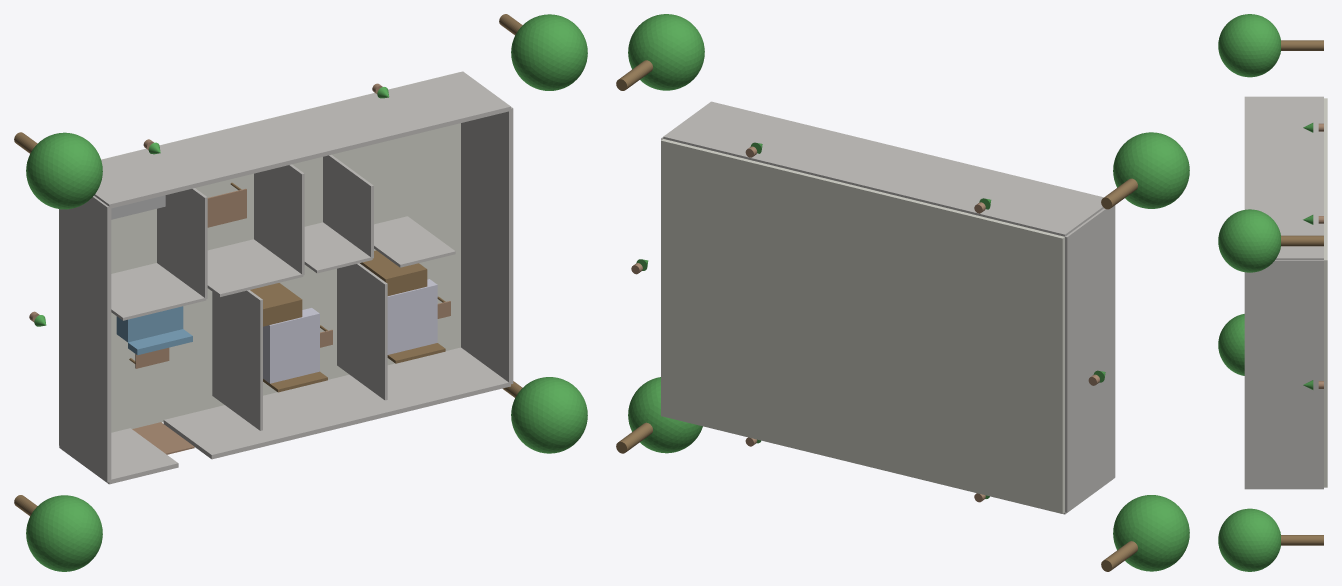
File: house_20251101_070418.glb
3 renders of one model, left to right at view 1: azimuth 30°, elevation 25°; view 2: azimuth 150°, elevation 25°; view 3: azimuth 270°, elevation 25°, orthographic. The views are drawn at different scales.
Visible parts, largest first — view 1: Floor, Wall_S, Wall_N2, Wall_E, Wall_W, Wall_Living_R, Wall_Bedroom1_R, geometry_19b07774363b9, geometry_18d2a94aeb248, geometry_1a6a2b0a31ce2, geometry_11a81f5d033f9, Wall_Dining_R (+14 smaller); view 2: Floor, Wall_S, Wall_E, geometry_11a81f5d033f9, geometry_1a6a2b0a31ce2, geometry_19b07774363b9, geometry_18d2a94aeb248; view 3: Wall_W, Wall_S, geometry_18d2a94aeb248, geometry_1a6a2b0a31ce2, geometry_11a81f5d033f9, Floor, geometry_19b07774363b9, geometry_075dbe70cf30b, geometry_0b1b44a9b68e0, geometry_0b17eb1ab1814.
Boxes of the visible parts, x1,y1,x2,y2 form: Floor: [59, 72, 460, 445]; Wall_S: [94, 71, 510, 208]; Wall_N2: [163, 347, 510, 459]; Wall_E: [59, 196, 111, 482]; Wall_W: [461, 107, 513, 384]; Wall_Living_R: [212, 290, 262, 430]; Wall_Bedroom1_R: [337, 263, 387, 400]; geometry_19b07774363b9: [26, 495, 102, 571]; geometry_18d2a94aeb248: [511, 377, 587, 453]; geometry_1a6a2b0a31ce2: [26, 132, 102, 209]; geometry_11a81f5d033f9: [511, 14, 587, 90]; Wall_Dining_R: [254, 164, 304, 275]; Floor: [661, 139, 1064, 513]; Wall_S: [663, 101, 1103, 236]; Wall_E: [1065, 205, 1115, 512]; geometry_11a81f5d033f9: [628, 14, 704, 90]; geometry_1a6a2b0a31ce2: [1113, 132, 1189, 208]; geometry_19b07774363b9: [1113, 495, 1189, 571]; geometry_18d2a94aeb248: [628, 377, 702, 453]; Wall_W: [1244, 260, 1323, 488]; Wall_S: [1244, 96, 1323, 260]; geometry_18d2a94aeb248: [1218, 508, 1280, 571]; geometry_1a6a2b0a31ce2: [1218, 14, 1280, 77]; geometry_11a81f5d033f9: [1218, 209, 1280, 272]; Floor: [1324, 98, 1327, 487]; geometry_19b07774363b9: [1218, 314, 1244, 375]; geometry_075dbe70cf30b: [1281, 235, 1323, 246]; geometry_0b1b44a9b68e0: [1281, 535, 1323, 545]; geometry_0b17eb1ab1814: [1281, 40, 1323, 50].
Bounding box in the file's own units: 19.9 × 14.9 × 4.15.
